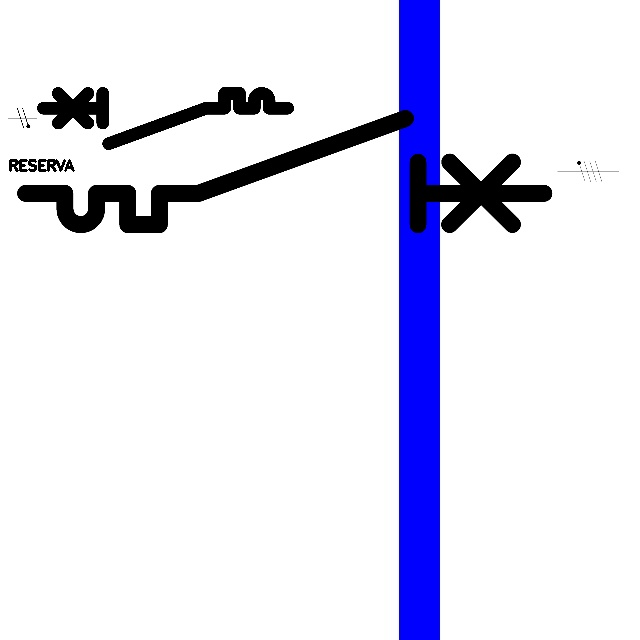interruptor_termomagnetico: (12, 105, 557, 238), (37, 87, 294, 150)
